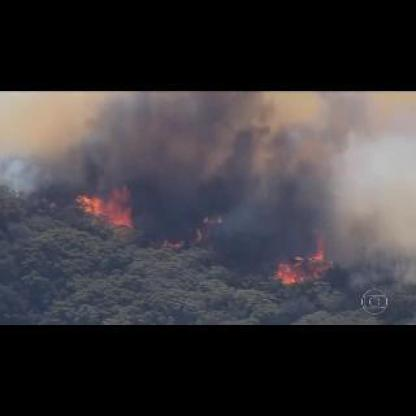fire: (75, 194, 138, 231), (276, 242, 330, 283), (162, 242, 184, 248)
